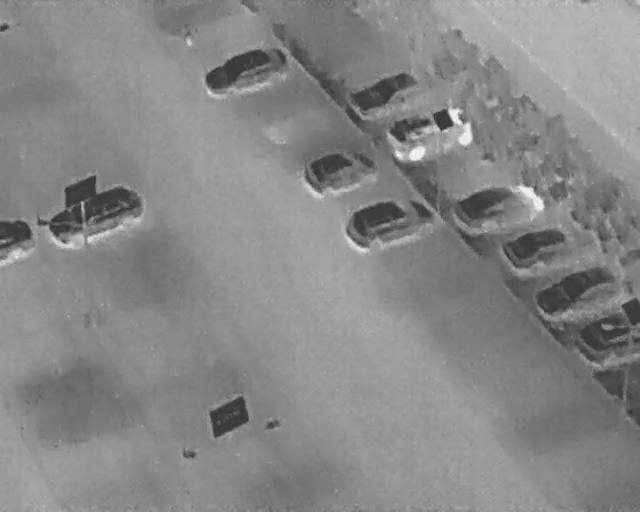Car: (40, 175, 153, 256), (336, 180, 442, 265), (445, 165, 554, 247), (380, 93, 479, 171), (197, 34, 294, 107), (528, 254, 624, 326), (497, 212, 588, 280), (298, 136, 383, 204), (345, 65, 427, 128), (573, 315, 639, 362), (0, 216, 35, 266)
